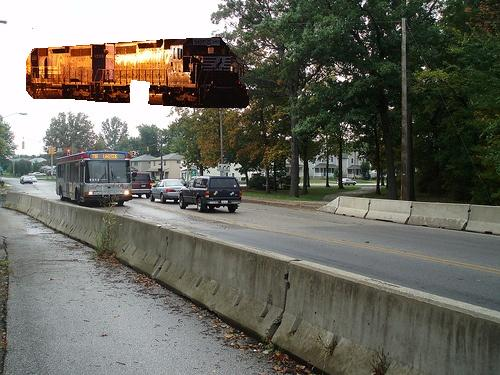tampered: (27, 38, 249, 108)
